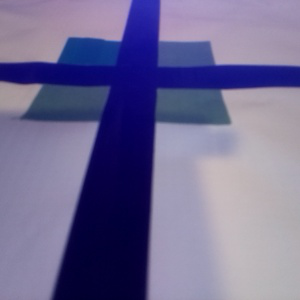bottom_left: (22, 66, 155, 121)
bottom_right: (110, 67, 231, 125)
top_left: (57, 38, 157, 86)
top_right: (120, 41, 215, 88)
